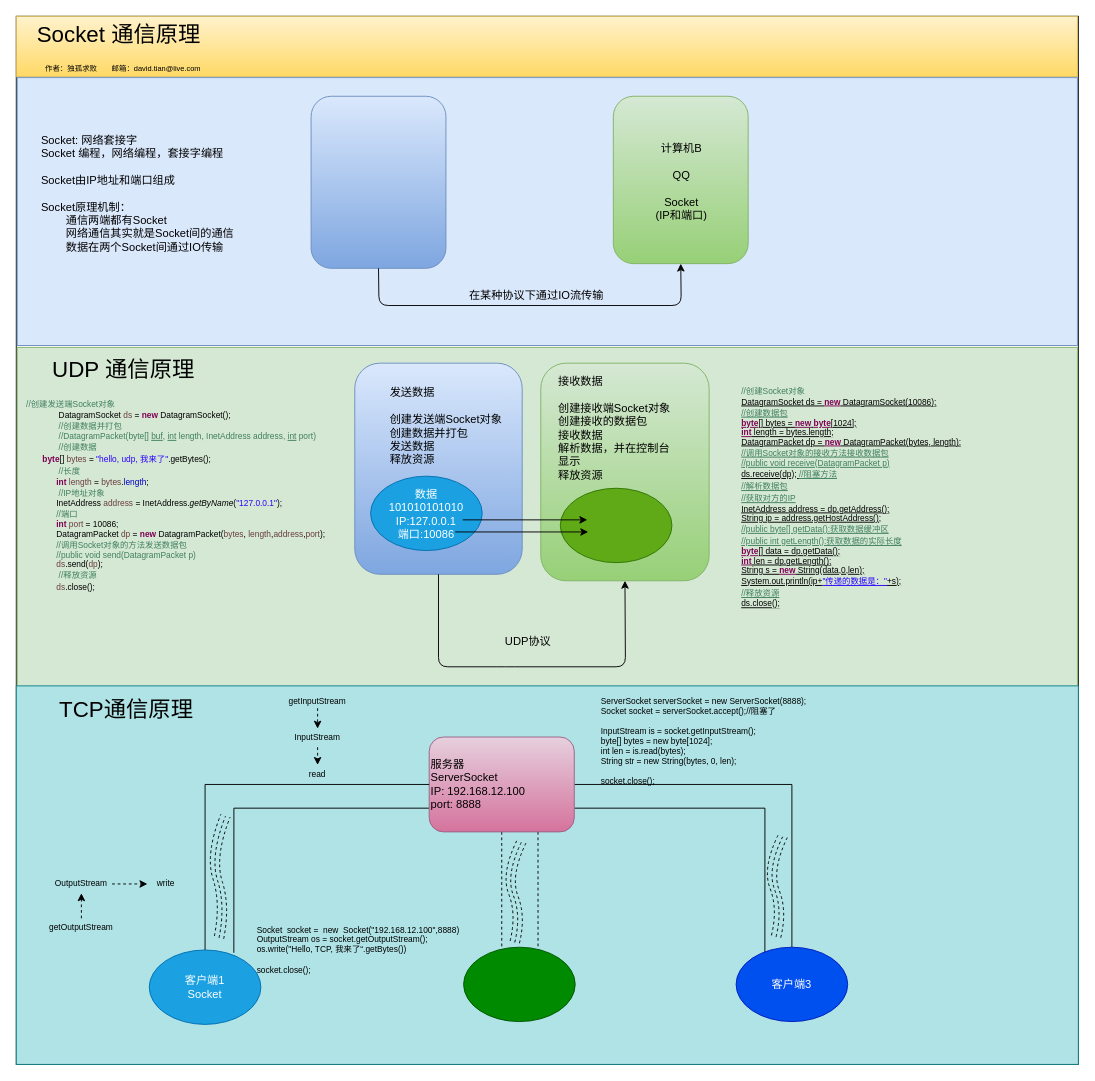
Some shapes in this 1095 by 1081 pixel diagram are drawn without their labels. The box of each missing label's shape, as (x1, y1, x2, y2) in pixels:
客户端2: (463, 946, 575, 1022)
数据 IP:127.0.0.1 端口:10086 101010101010: (559, 487, 672, 563)
计算机A QQ Socket (IP和端口): (310, 95, 446, 268)
